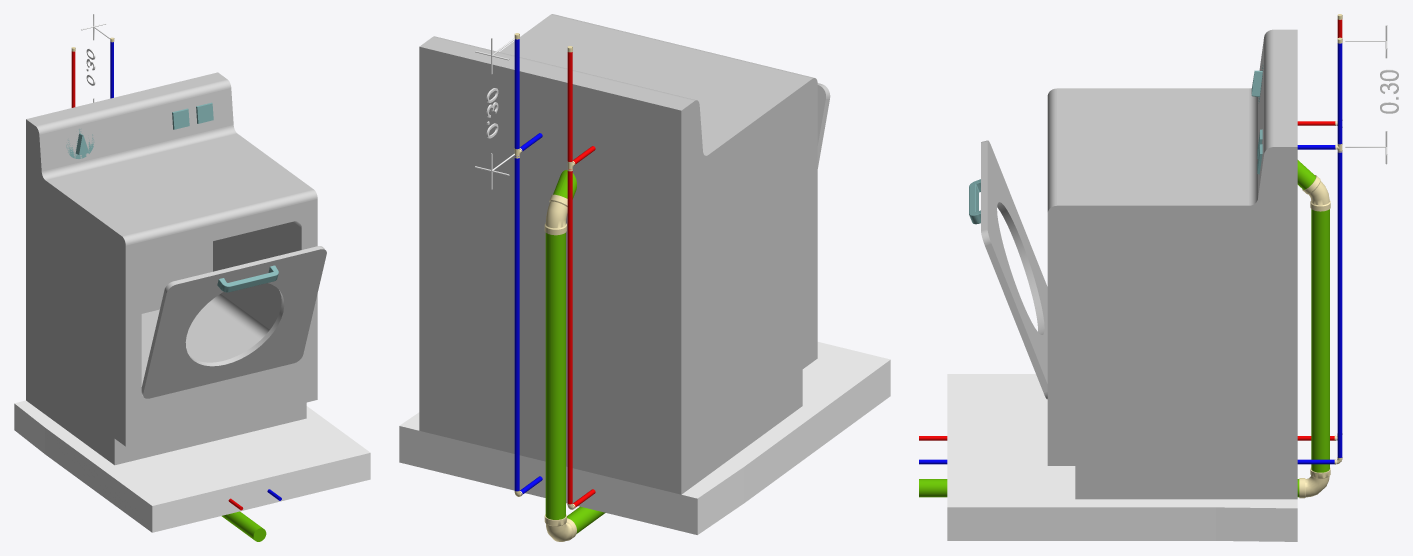
The model's file is lavadora.glb.
The picture shows the model from 3 angles, left to right: view 1: azimuth 30°, elevation 25°; view 2: azimuth 150°, elevation 25°; view 3: azimuth 270°, elevation 25°; orthographic projection. The views are drawn at different scales.
Visible parts, largest first — view 1: Geom3D (×5); view 2: Geom3D (×10); view 3: Geom3D (×8).
Part boxes in pixels (box(x1,y1,x2,y2)): Geom3D (×5): box(14, 72, 370, 541); Geom3D (×10): box(399, 14, 890, 541); Geom3D (×8): box(947, 29, 1342, 541).
Bounding box in the file's own units: 0.086 × 0.1558 × 0.1296.
